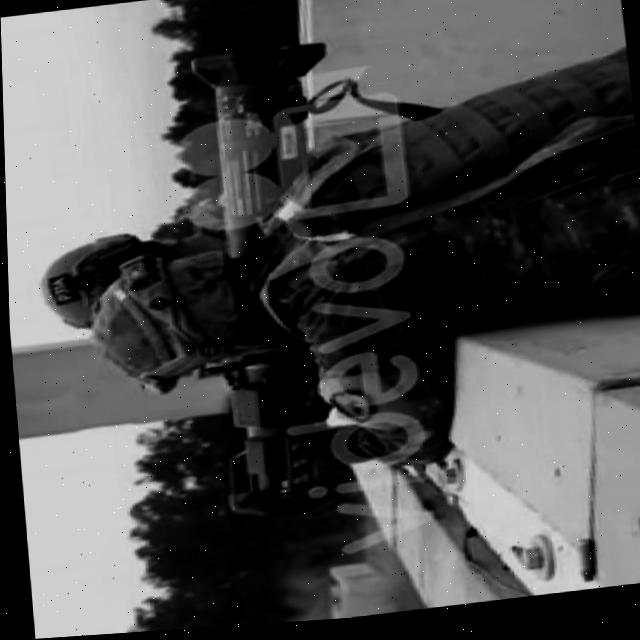rocket: (165, 37, 389, 525)
